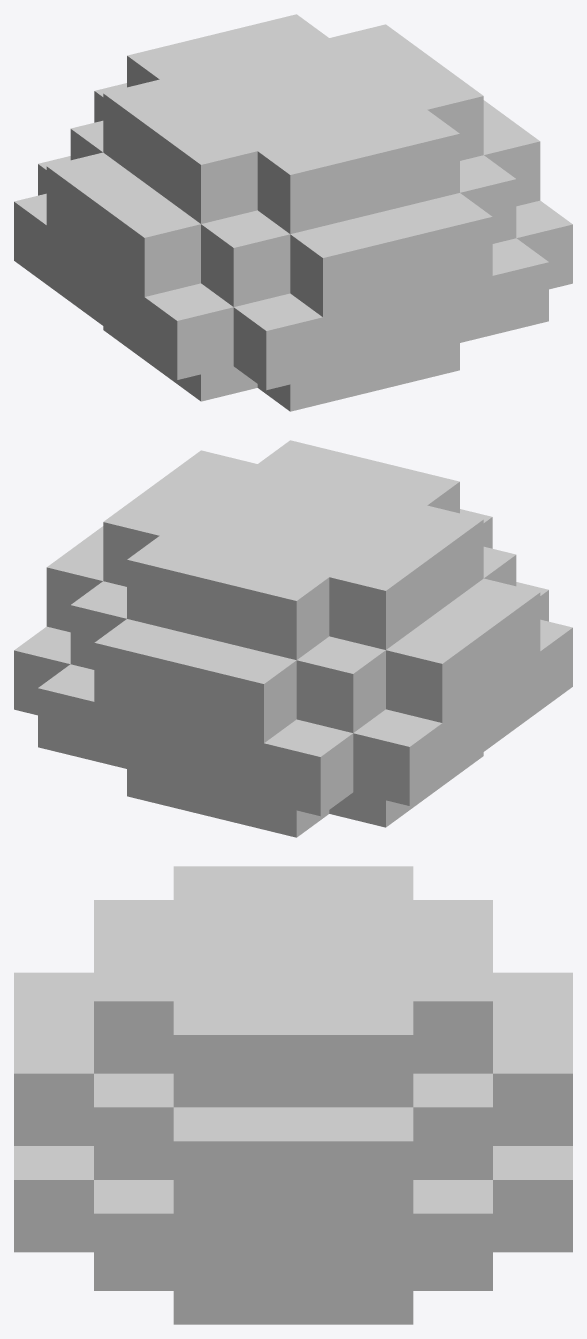
Rendered from flowerVox.obj.
3 renders of one model, top to bottom at view 1: azimuth 30°, elevation 25°; view 2: azimuth 150°, elevation 25°; view 3: azimuth 270°, elevation 25°, orthographic. The views are drawn at different scales.
Size of the model in its own units: 7 by 4 by 7.
Materials: 1 (1 with a texture image).
